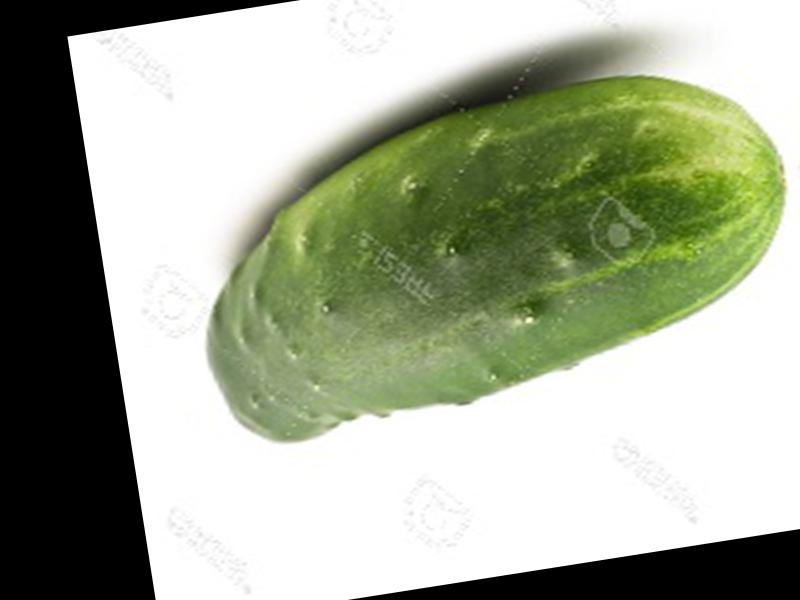Cucumber: (173, 49, 800, 453)
